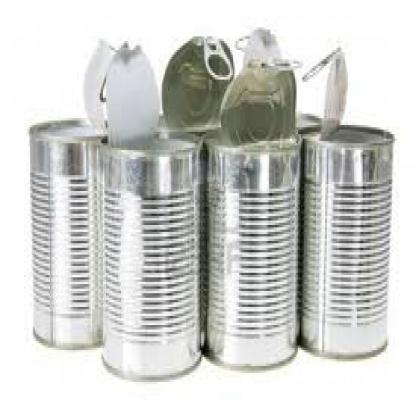METAL: (298, 43, 392, 355), (96, 134, 200, 380), (203, 125, 297, 368), (28, 118, 108, 348), (218, 25, 295, 143), (160, 32, 234, 123), (99, 39, 158, 136), (302, 44, 348, 136), (85, 38, 124, 130), (195, 129, 206, 357), (290, 112, 322, 127)
